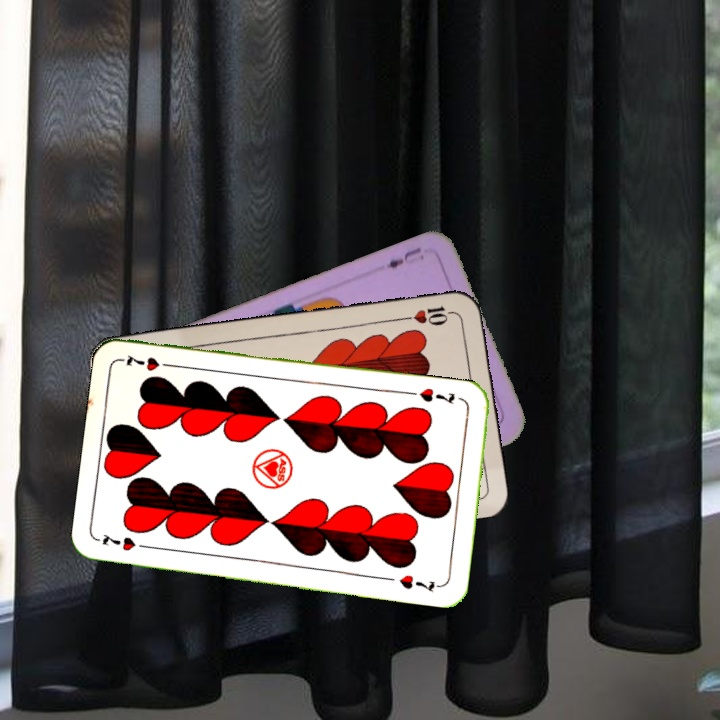EU: (382, 243, 424, 271)
H10: (399, 302, 458, 328)
H7: (98, 530, 154, 554), (415, 384, 457, 407)
